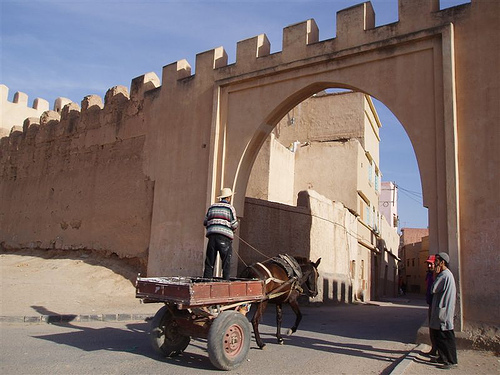horse: (231, 252, 324, 353)
